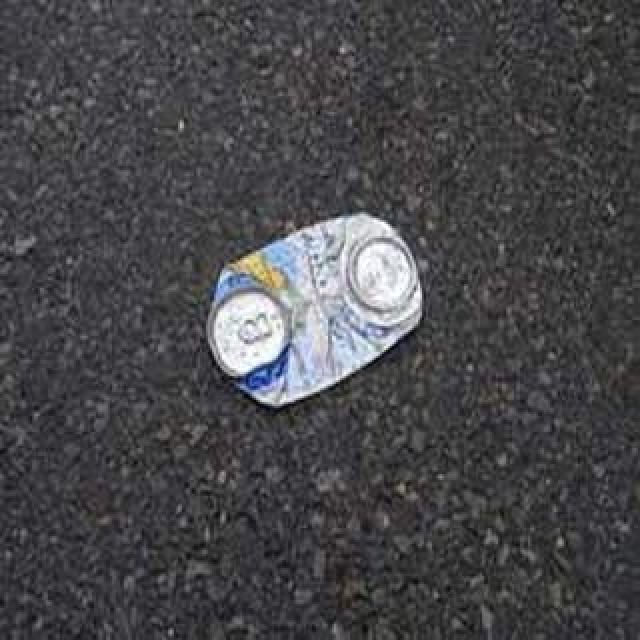Can: (194, 205, 426, 421)
